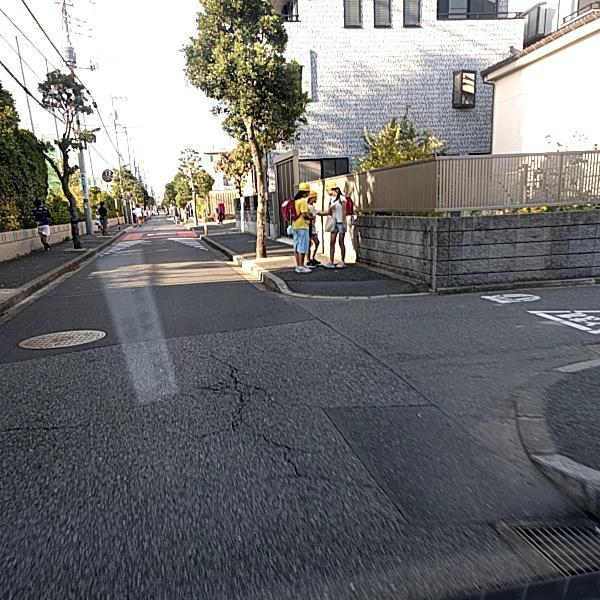D10: (1, 416, 84, 441)
D20: (170, 341, 327, 477)
D50: (19, 325, 107, 347)
